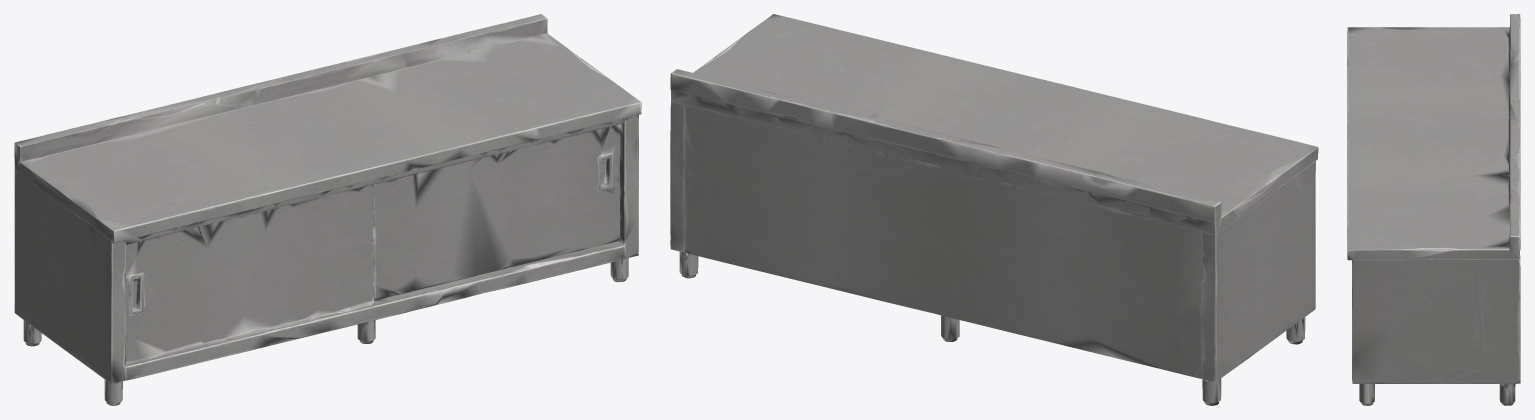
File: backcounter.glb
3 views of the same model, side by side, from view 1: azimuth 30°, elevation 25°; view 2: azimuth 150°, elevation 25°; view 3: azimuth 270°, elevation 25° (orthographic). The views are drawn at different scales.
Size of the model in its own units: 1.9 by 0.6855 by 0.6257.
Materials: 1 (1 with a texture image).
